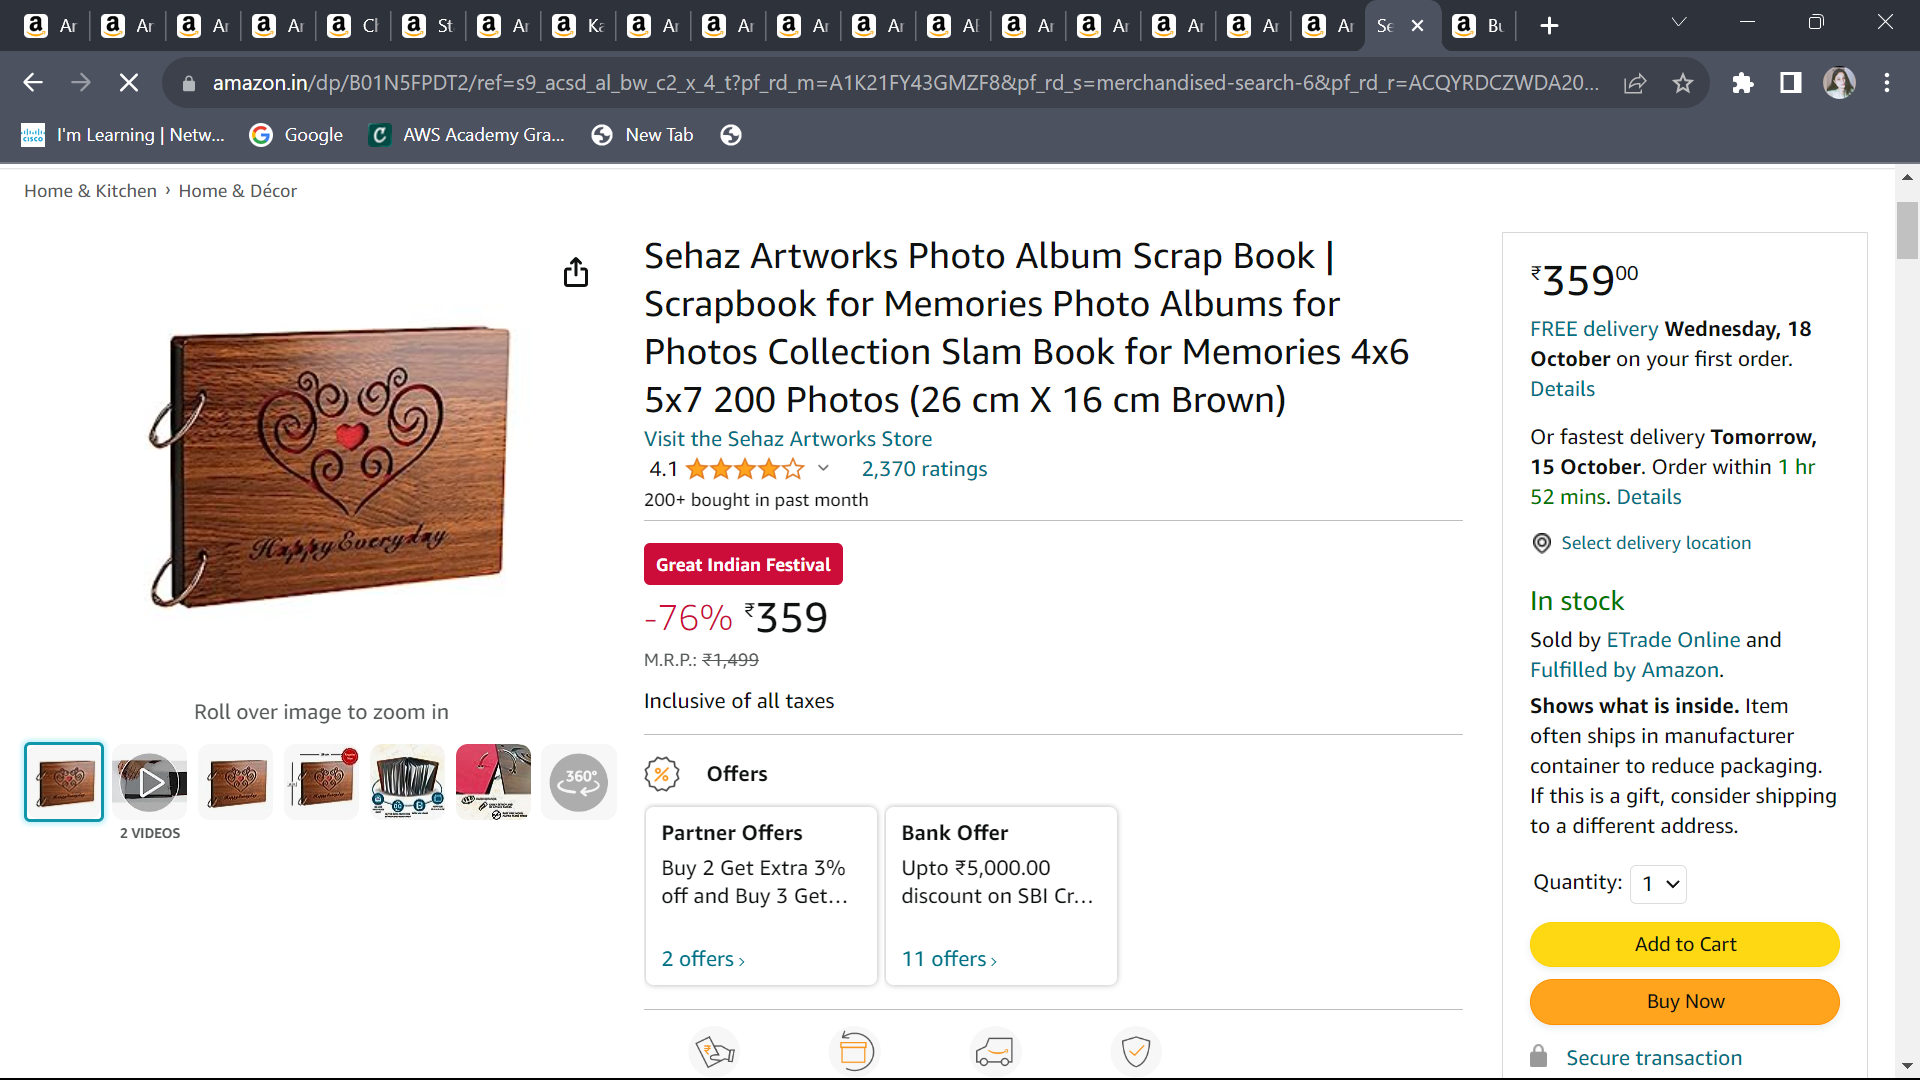Image: (99, 269, 562, 687), (3, 713, 576, 878)
Paragraph: (640, 210, 1436, 427), (636, 753, 1134, 992), (1511, 628, 1857, 857), (1509, 923, 1866, 1036), (1509, 305, 1821, 418), (628, 541, 899, 669), (621, 421, 1063, 496), (1505, 425, 1863, 513), (1516, 520, 1774, 576), (1516, 869, 1717, 926), (621, 692, 878, 735), (618, 489, 919, 522), (1520, 251, 1679, 310), (1526, 579, 1675, 621)
